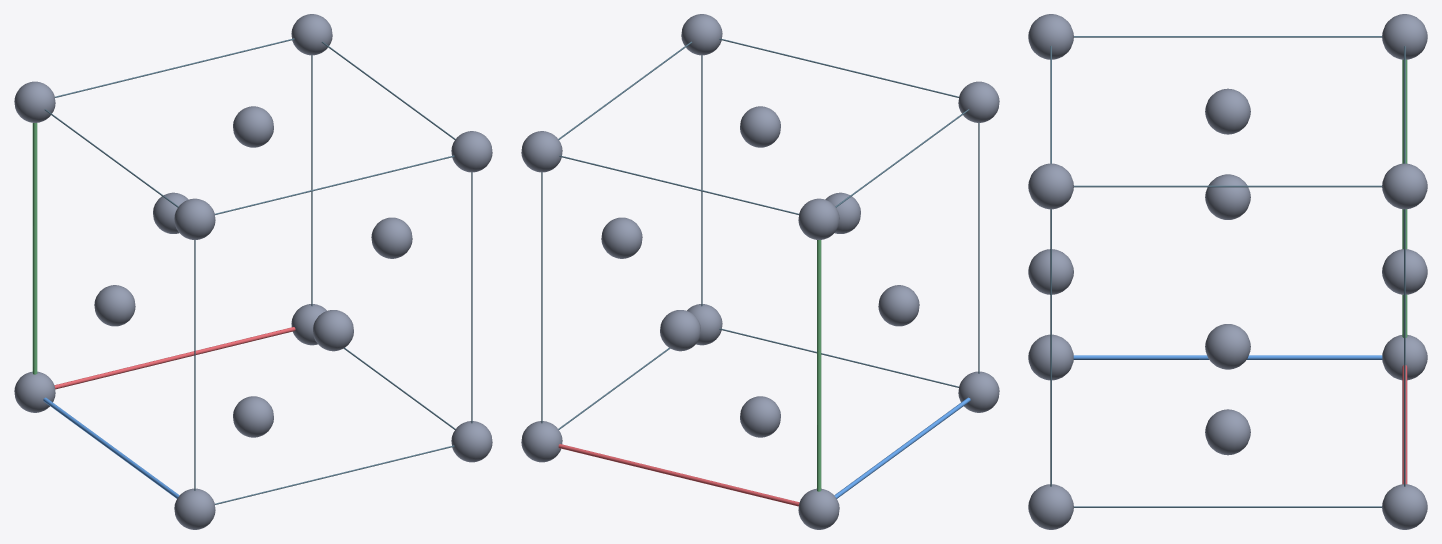
The model's file is nguyen-to-pb.glb.
The picture shows the model from 3 angles, left to right: view 1: azimuth 30°, elevation 25°; view 2: azimuth 150°, elevation 25°; view 3: azimuth 270°, elevation 25°; orthographic projection. The views are drawn at different scales.
Visible parts, largest first — view 1: Pb · Pb · 1 (×14), Ô mạng và các trục a, b, c; view 2: Pb · Pb · 1 (×14), Ô mạng và các trục a, b, c; view 3: Pb · Pb · 1 (×14), Ô mạng và các trục a, b, c.
Part boxes in pixels (bbox=[...]): Pb · Pb · 1 (×14): bbox=[14, 14, 492, 529]; Ô mạng và các trục a, b, c: bbox=[32, 38, 472, 504]; Pb · Pb · 1 (×14): bbox=[521, 14, 999, 529]; Ô mạng và các trục a, b, c: bbox=[541, 38, 979, 506]; Pb · Pb · 1 (×14): bbox=[1028, 14, 1427, 529]; Ô mạng và các trục a, b, c: bbox=[1050, 36, 1407, 507].
Size of the model in its own units: 5.58 by 5.58 by 5.58.
